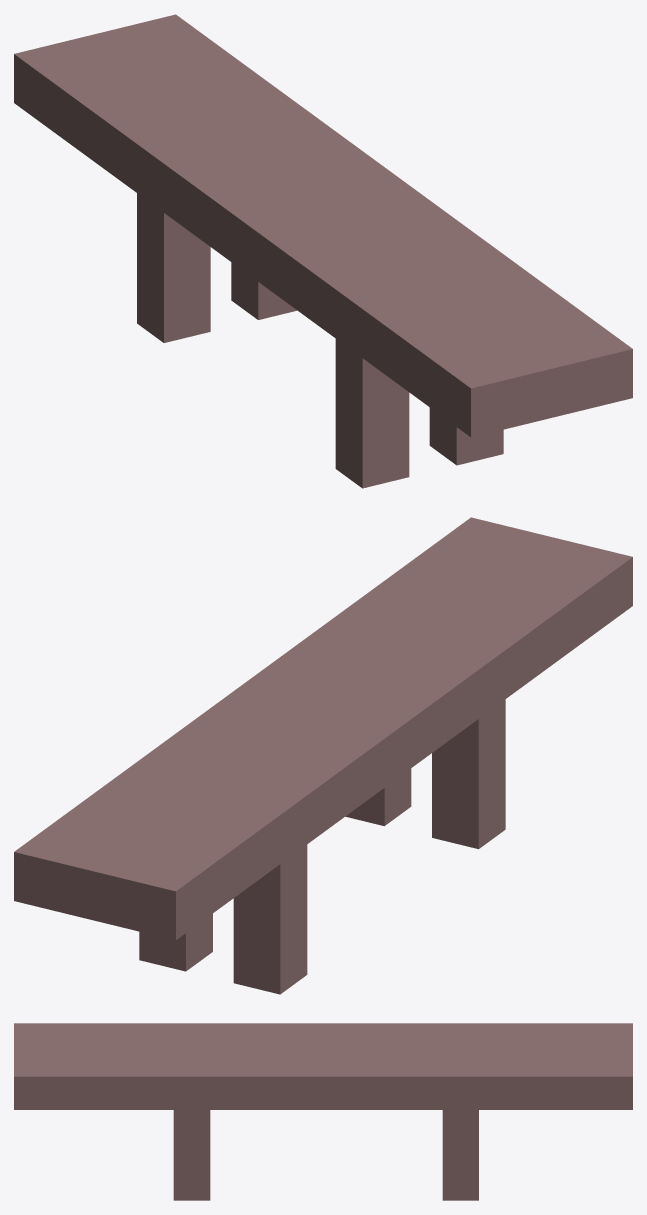
Rendered from fbBridge1.fbx.
3 renders of one model, top to bottom at view 1: azimuth 30°, elevation 25°; view 2: azimuth 150°, elevation 25°; view 3: azimuth 270°, elevation 25°, orthographic. The views are drawn at different scales.
Visible parts, largest first — view 1: Cube.017; view 2: Cube.017; view 3: Cube.017.
Part boxes in pixels (x1,y1,x2,y2): Cube.017: (14,14,632,488); Cube.017: (14,517,632,994); Cube.017: (14,1023,632,1200).
Size of the model in its own units: 376 by 418 by 1837.
